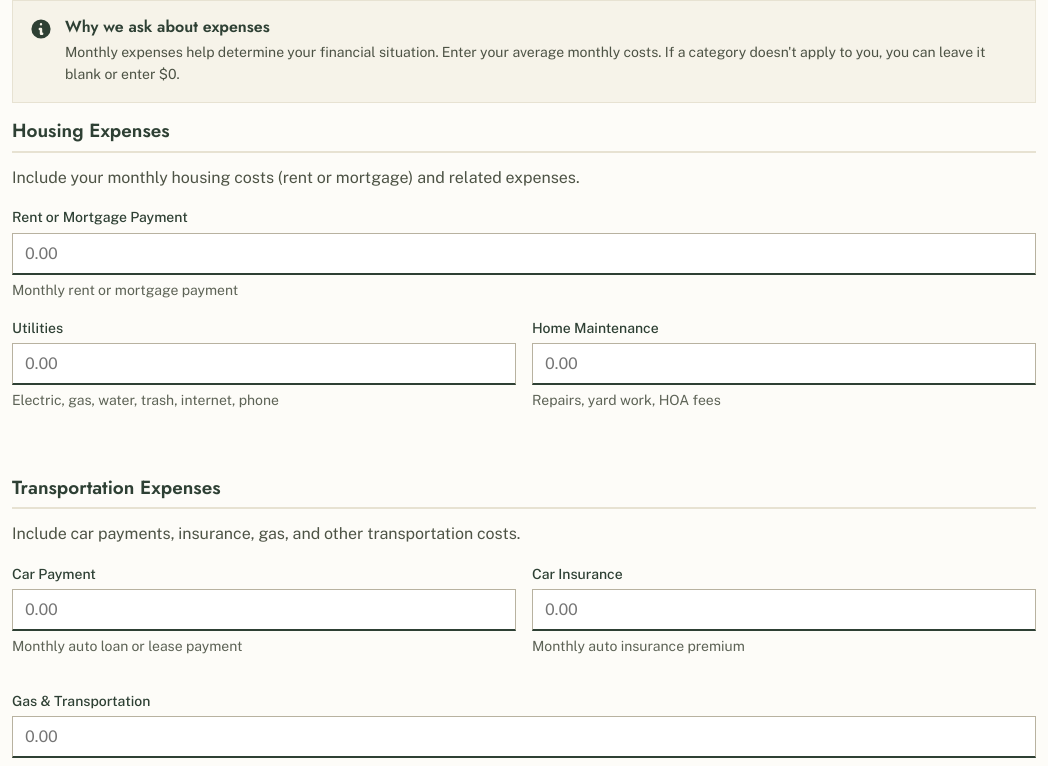
Test case: ExpenseInfoStep › counts clothing and child support paid in the monthly total
The width and height of the screenshot is (1048, 766).
In the number field labelled "Rent or Mortgage Payment": [524, 254] box x1=12 y1=232 x2=1036 y2=274, type "1000"
(page scrolled)
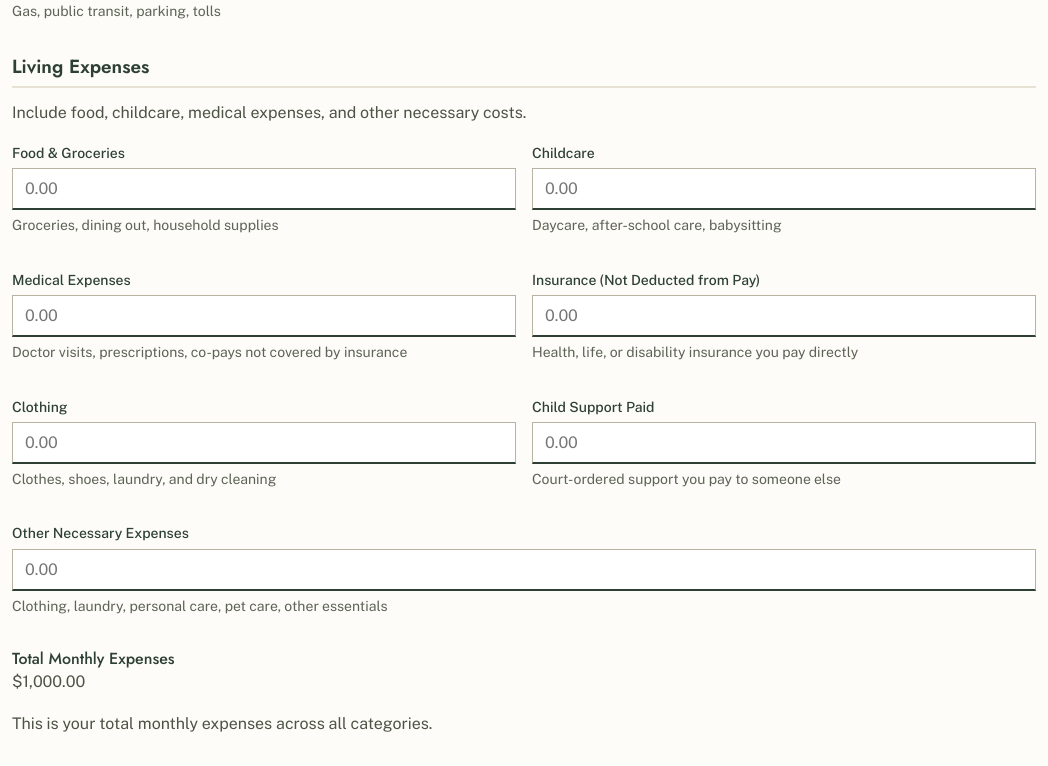
In the number field labelled "Clothing": [264, 443] box x1=12 y1=422 x2=516 y2=464, type "60"
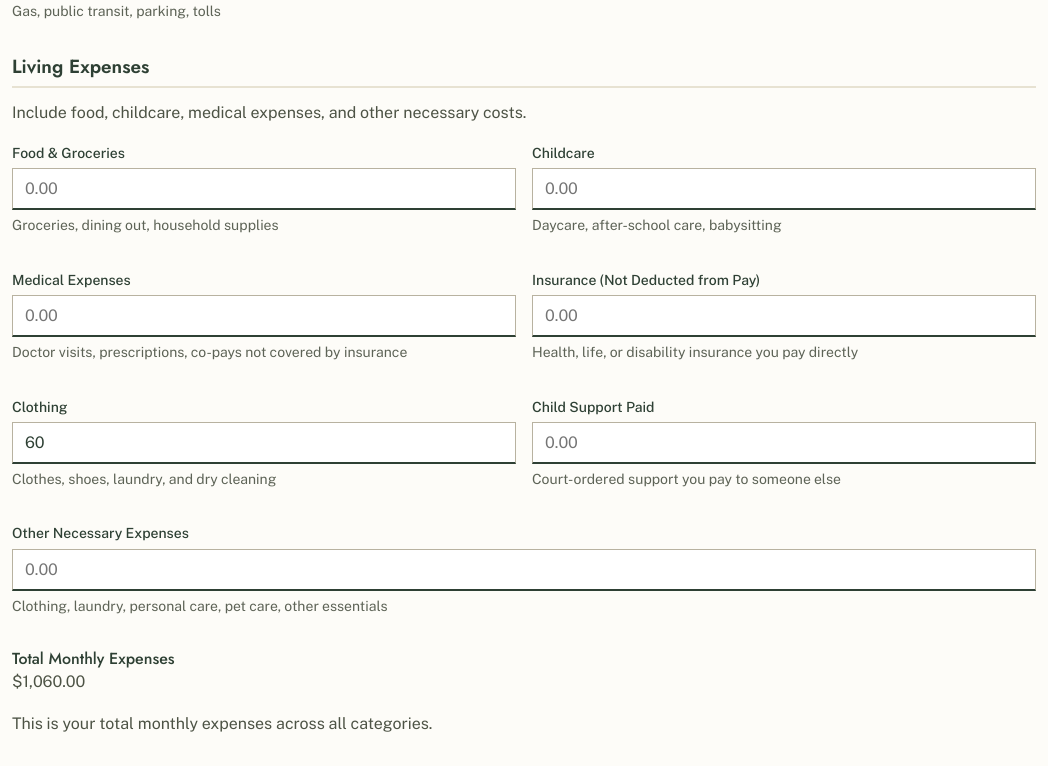
In the number field labelled "Child Support Paid": [784, 443] box x1=532 y1=422 x2=1036 y2=464, type "200"
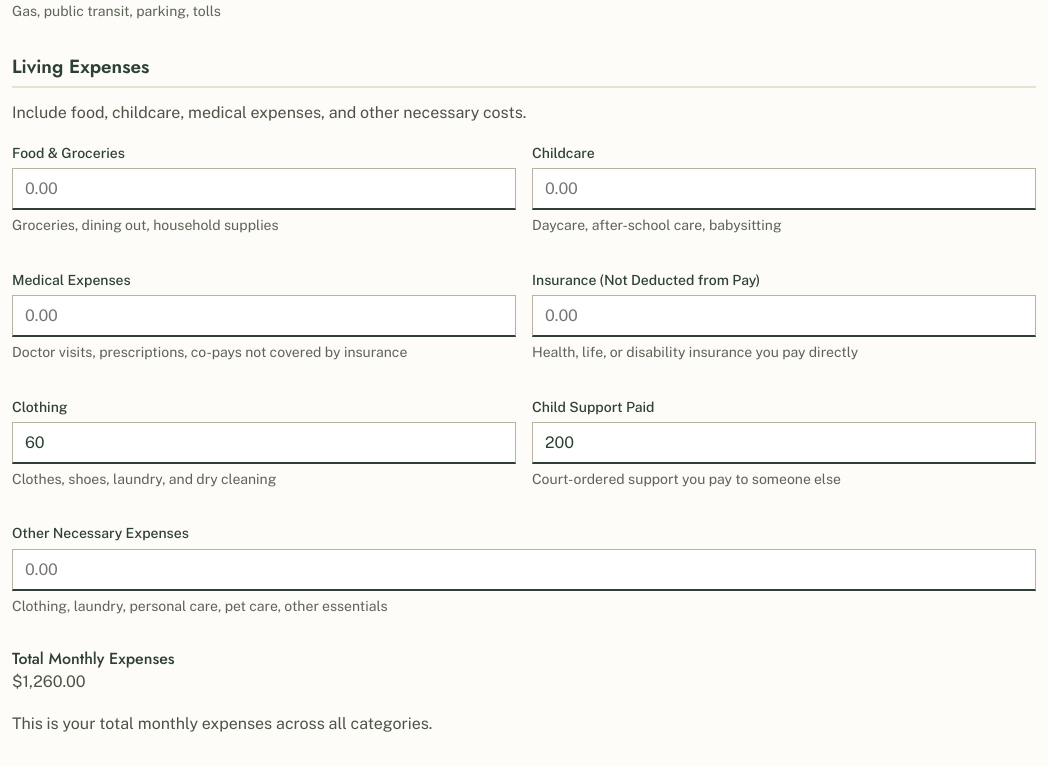
Result: the text "$1,260.00" is shown at x1=12 y1=672 x2=86 y2=691
